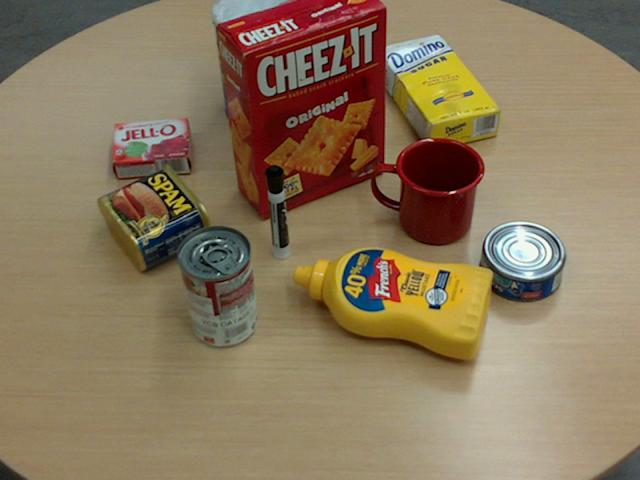cracker_box: (215, 0, 386, 217)
gelatin_box: (109, 116, 189, 177)
large_marker: (263, 165, 290, 260)
master_chef_can: (211, 0, 304, 131)
mug: (372, 136, 485, 243)
mustard_bottle: (292, 248, 493, 358)
potted_meat_can: (97, 162, 213, 270)
sugar_box: (375, 33, 501, 150)
tomato_soup_can: (175, 224, 257, 346)
tuna_fish_can: (480, 220, 566, 300)
